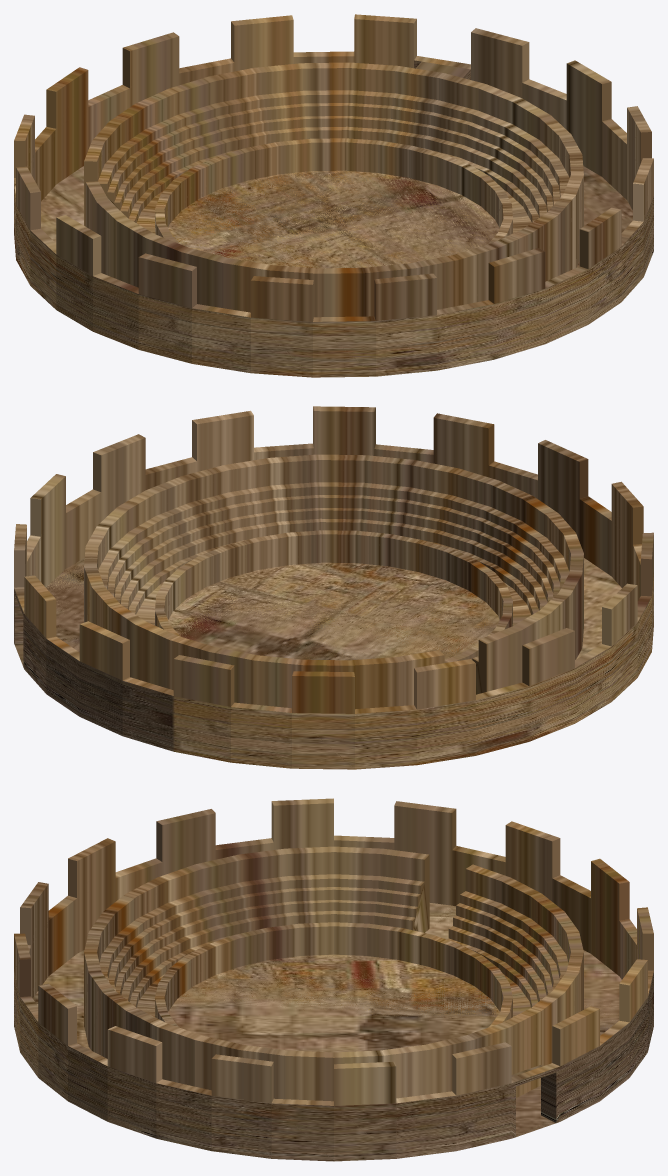
File: kolizey_5.glb
The picture shows the model from 3 angles, top to bottom: view 1: azimuth 30°, elevation 25°; view 2: azimuth 150°, elevation 25°; view 3: azimuth 270°, elevation 25°; orthographic projection.
Parts seen in each view (by area): view 1: Цилиндр; view 2: Цилиндр; view 3: Цилиндр.
Part boxes in pixels (left/top/right/bottom): Цилиндр: left=14, top=14, right=653, bottom=377; Цилиндр: left=14, top=406, right=653, bottom=769; Цилиндр: left=14, top=798, right=653, bottom=1161.
Size of the model in its own units: 500 by 109 by 500.
1 material, 1 textured.
